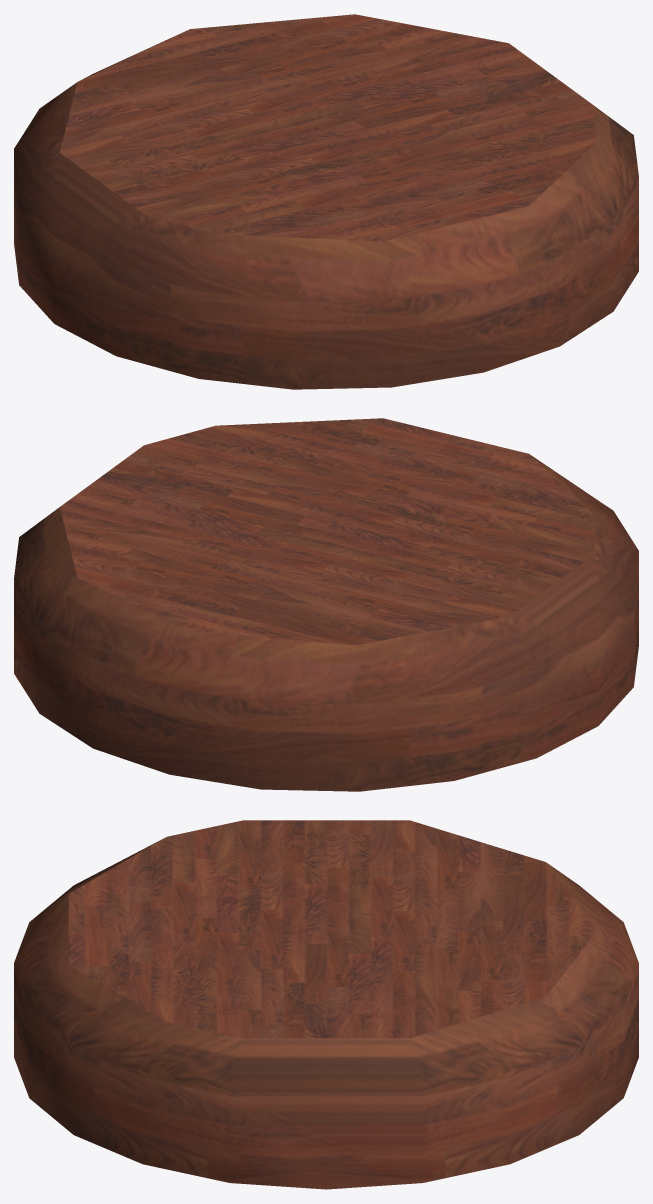
File: Paper Weight_lod2.fbx
3 renders of one model, top to bottom at view 1: azimuth 30°, elevation 25°; view 2: azimuth 150°, elevation 25°; view 3: azimuth 270°, elevation 25°, orthographic.
Parts seen in each view (by area): view 1: Paper_Weight; view 2: Paper_Weight; view 3: Paper_Weight.
Boxes of the visible parts, x1,y1,x2,y2 form: Paper_Weight: (14,14,638,389); Paper_Weight: (14,418,638,791); Paper_Weight: (14,820,638,1189).
Size of the model in its own units: 3 by 0.678 by 3.
